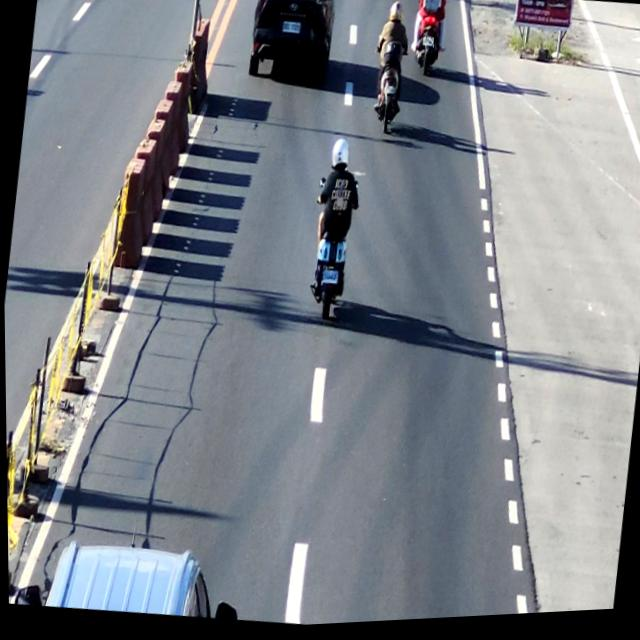Car: (22, 530, 235, 629), (243, 0, 338, 92)
License-Plate: (277, 18, 304, 43), (317, 268, 340, 292)
Motorcycle: (300, 142, 369, 330), (365, 0, 414, 145), (409, 0, 450, 85)
